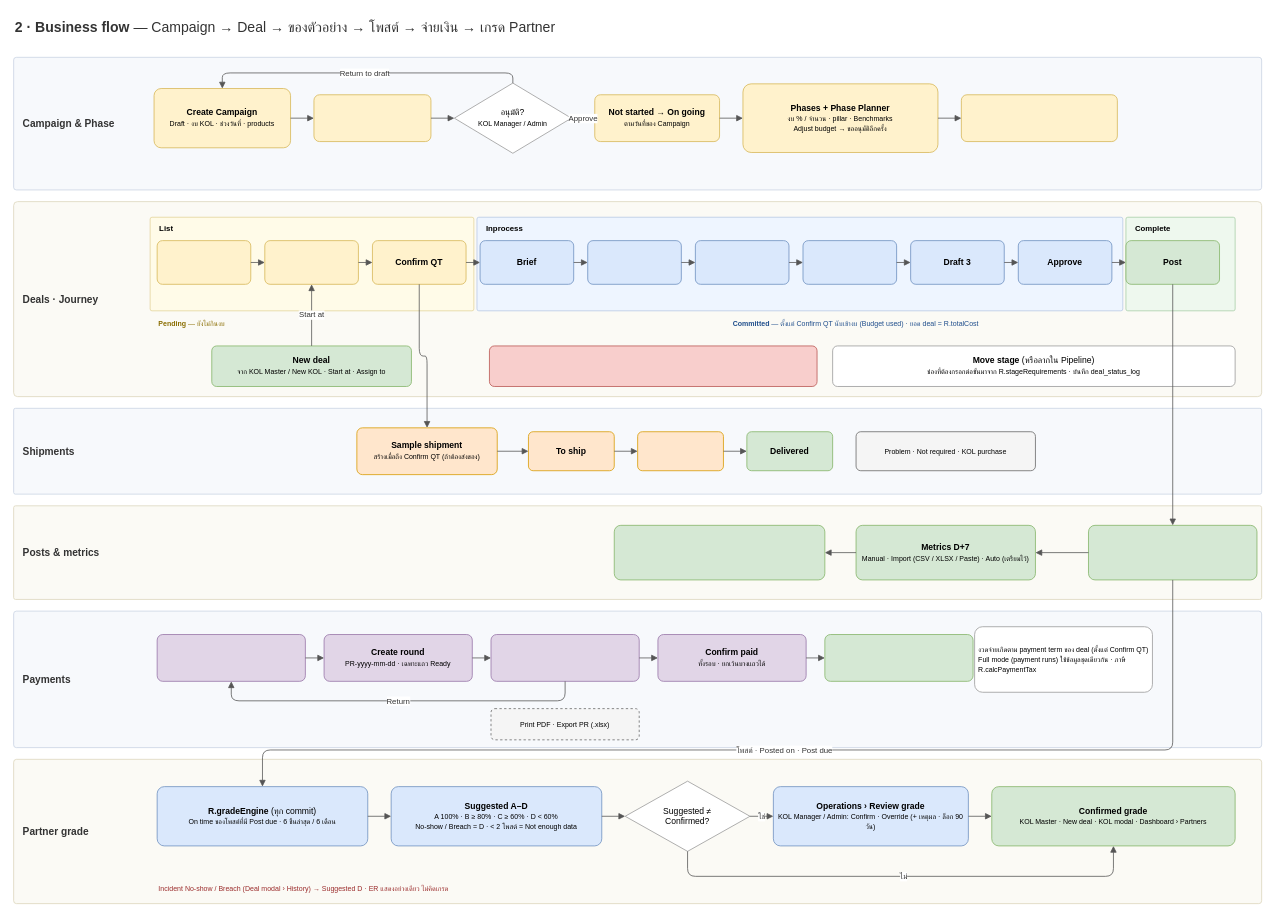
The diagram is 1275 pixels wide and 917 high, and some of its shapes have lost their labels. Here are the shapes that lost their labels. From the top down, the centre of each, then its label:
point (372, 118): Submit for approval Pending approval
point (1039, 118): Wrap-up → Mark complete
point (203, 262): Shortlist
point (311, 262): Contacted
point (634, 262): Script
point (742, 262): Draft 1
point (849, 262): Draft 2
point (653, 365): Cancel — ได้จากทุกขั้น เหตุผลบังคับ · ปล่อยงบ · ยกเลิกแถวจ่ายที่ยังไม่จ่าย
point (680, 451): Shipped
point (719, 552): Deals › Performance · Dashboard Views · ER · CPV · On-time · Benchmarks
point (1172, 552): Post Posted on เทียบ Post due → On time / Late
point (230, 657): To submit Pay to · payee details · เอกสาร
point (564, 657): Submitted Accounting: Verify / Return
point (898, 657): Paid (confirmed)
